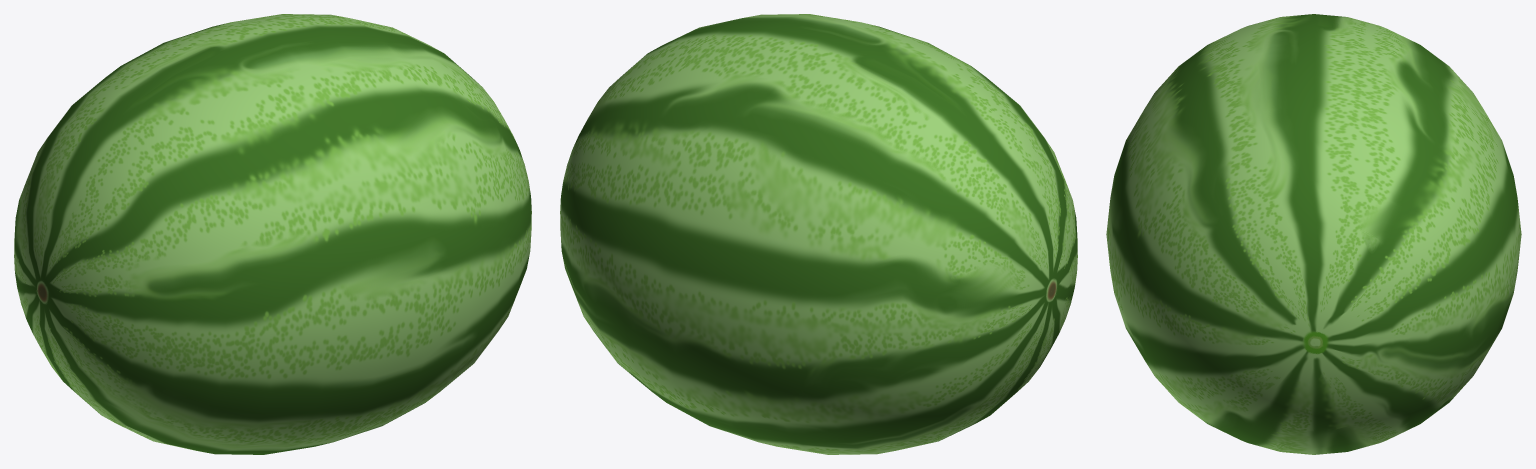
File: watermelon.fbx
3 views of the same model, side by side, from view 1: azimuth 30°, elevation 25°; view 2: azimuth 150°, elevation 25°; view 3: azimuth 270°, elevation 25° (orthographic). The views are drawn at different scales.
Parts seen in each view (by area): view 1: watermelon; view 2: watermelon; view 3: watermelon.
Boxes of the visible parts, left/top/right/bottom form: watermelon: left=14, top=14, right=531, bottom=454; watermelon: left=560, top=14, right=1077, bottom=454; watermelon: left=1106, top=14, right=1521, bottom=454.
Size of the model in its own units: 60.2 by 48.71 by 48.71.
